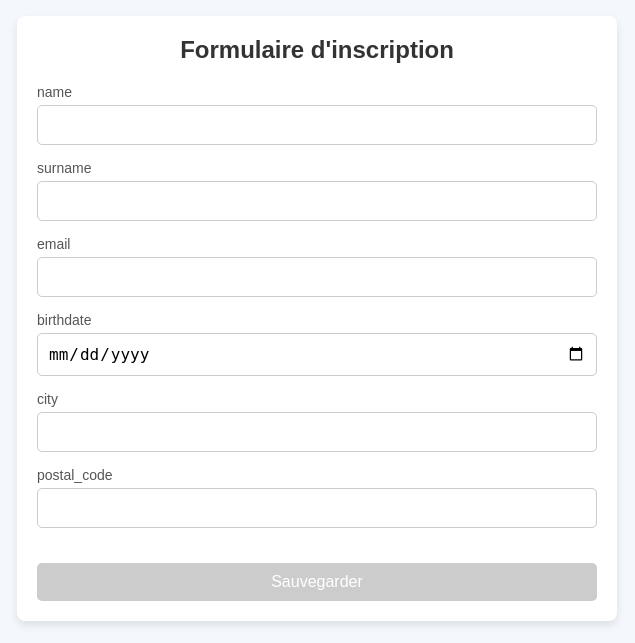
Scenario: RegistrationForm › should disable submit button when fields are empty
Expected: the button "Sauvegarder" is disabled, [37,562,597,600]
Type "John" into the field labelled "name" at point(317, 124), box [37,104,597,144]
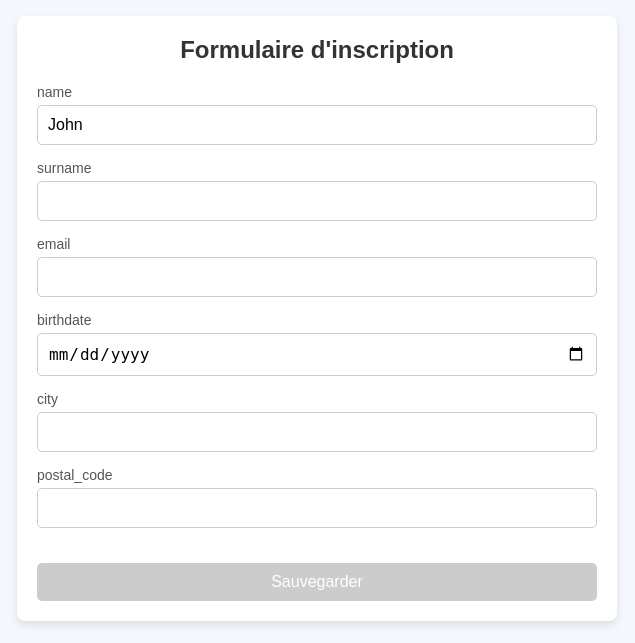
Expected: the button "Sauvegarder" is disabled, [37,562,597,600]
Type "Doe" into the field labelled "surname" at point(317, 200), box [37,180,597,220]
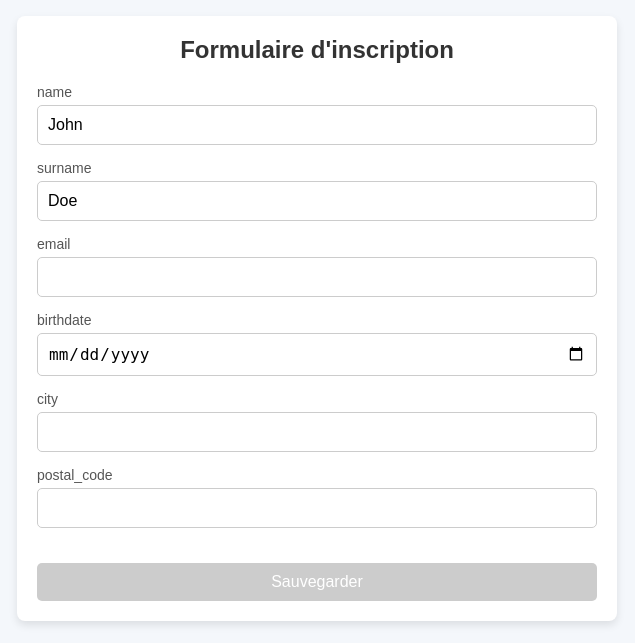
Expected: the button "Sauvegarder" is disabled, [37,562,597,600]
Type "john.doe@example.com" into the field labelled "email" at point(317, 276), box [37,256,597,296]
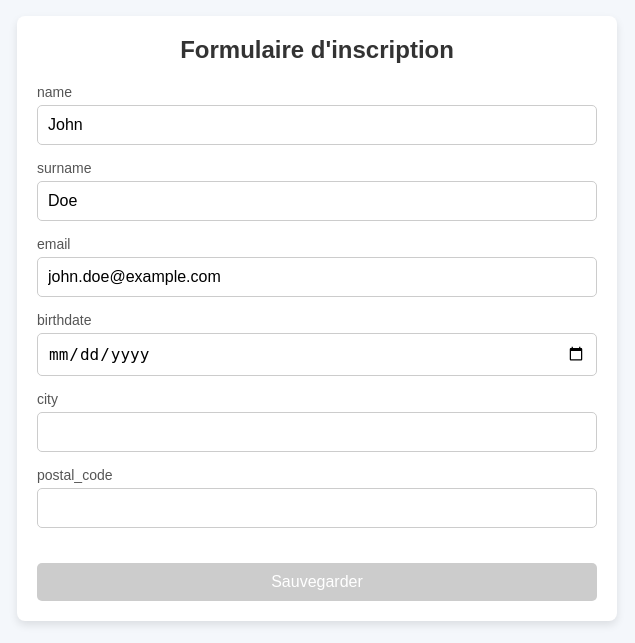
Expected: the button "Sauvegarder" is disabled, [37,562,597,600]
Type "2000-01-01" into the date field labelled "birthdate" at point(317, 354), box [37,332,597,376]
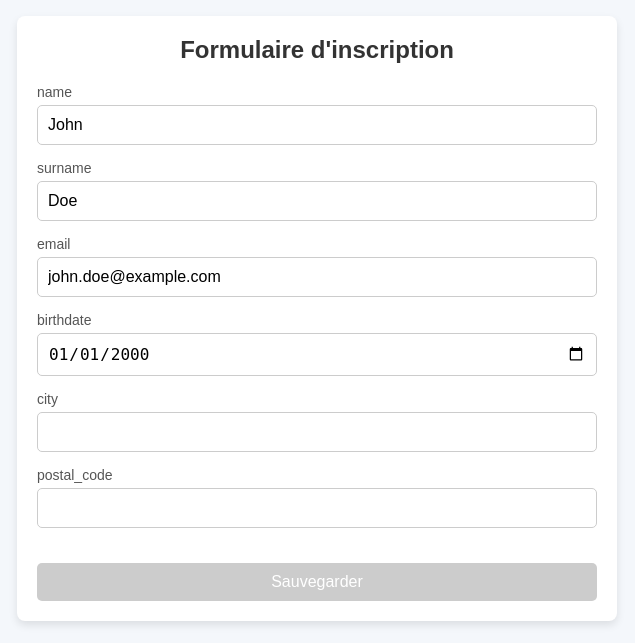
Type "Paris" into the field labelled "city" at point(317, 432), box [37,412,597,452]
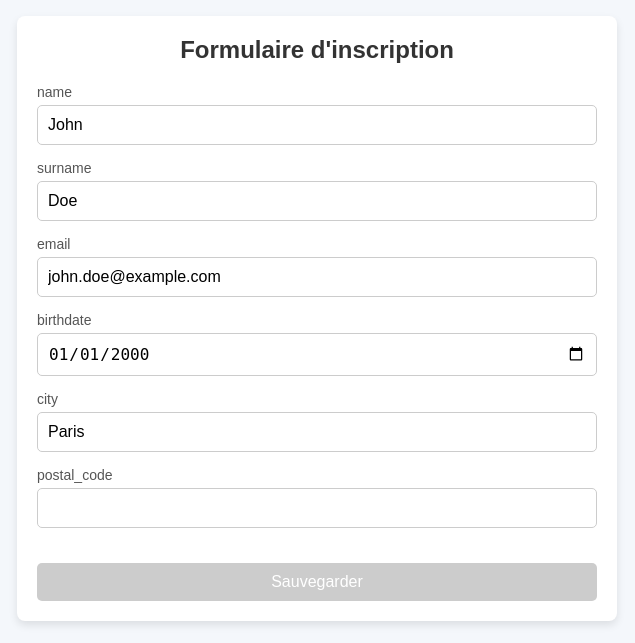
Type "75000" into the field labelled "postal_code" at point(317, 508), box [37,488,597,528]
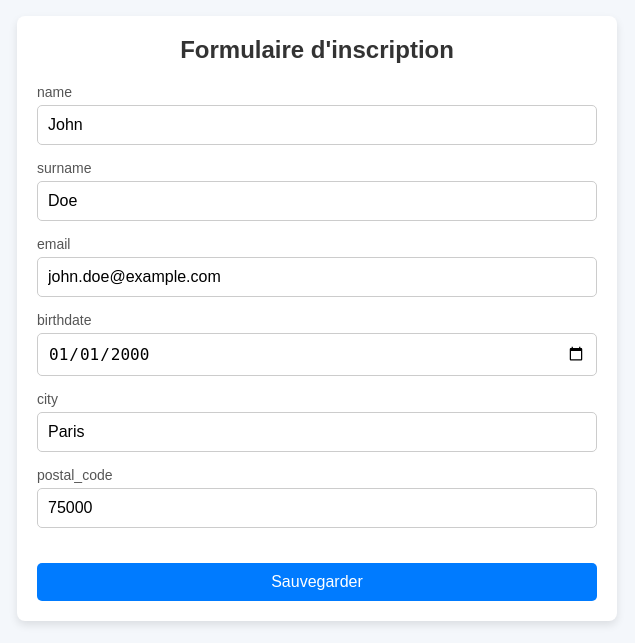
Result: the button "Sauvegarder" is enabled at [37,562,597,600]
